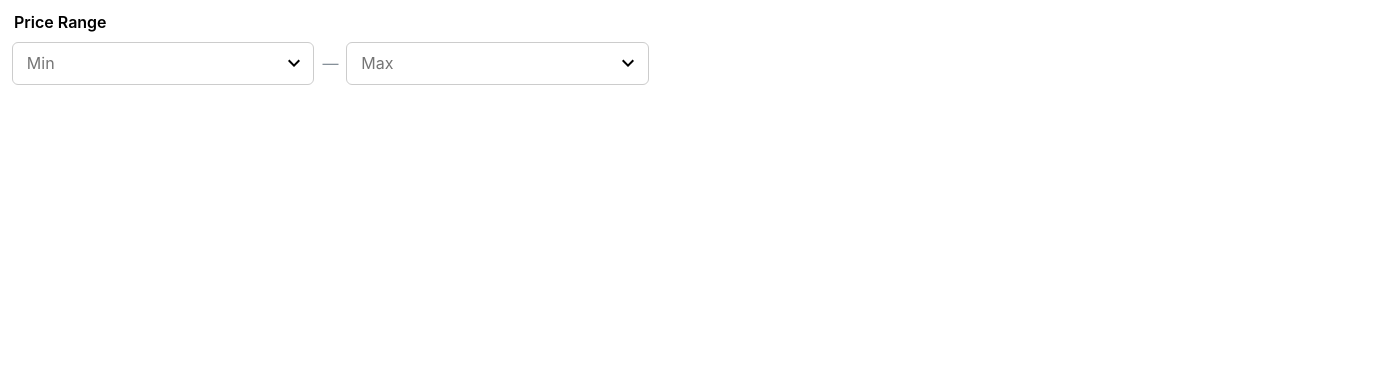
Test: PriceRange › when one of the inputs receives focus › when the escape key is clicked › closes the menu
Click the dropdown with placeholder "Min".
click(144, 63)  # box [14, 44, 275, 83]
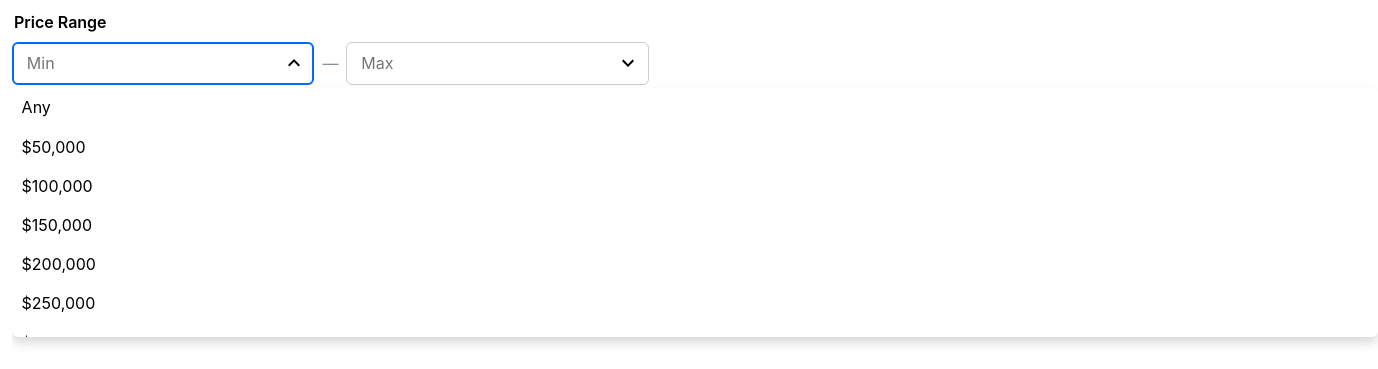
Now the list is shown, box [22, 97, 96, 352]
Press Escape
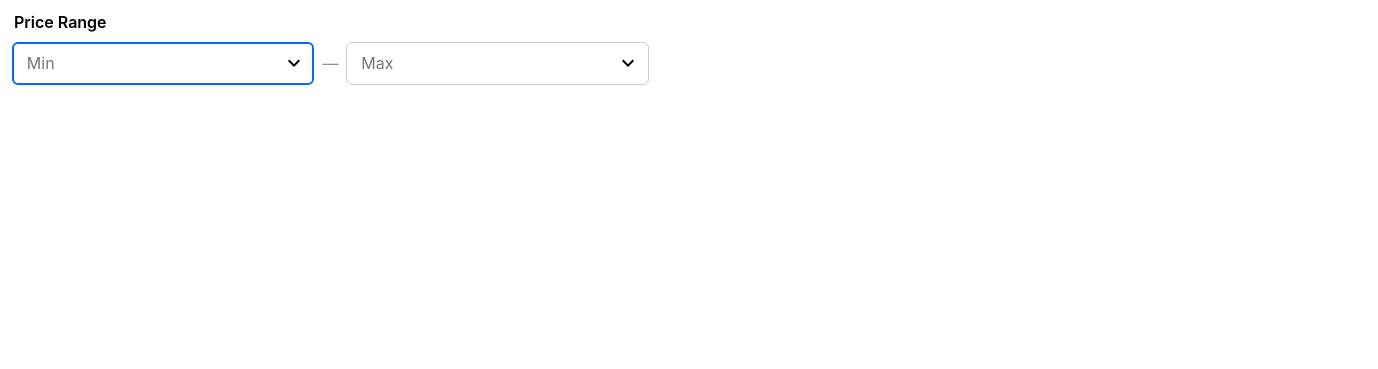
Now the list is gone
